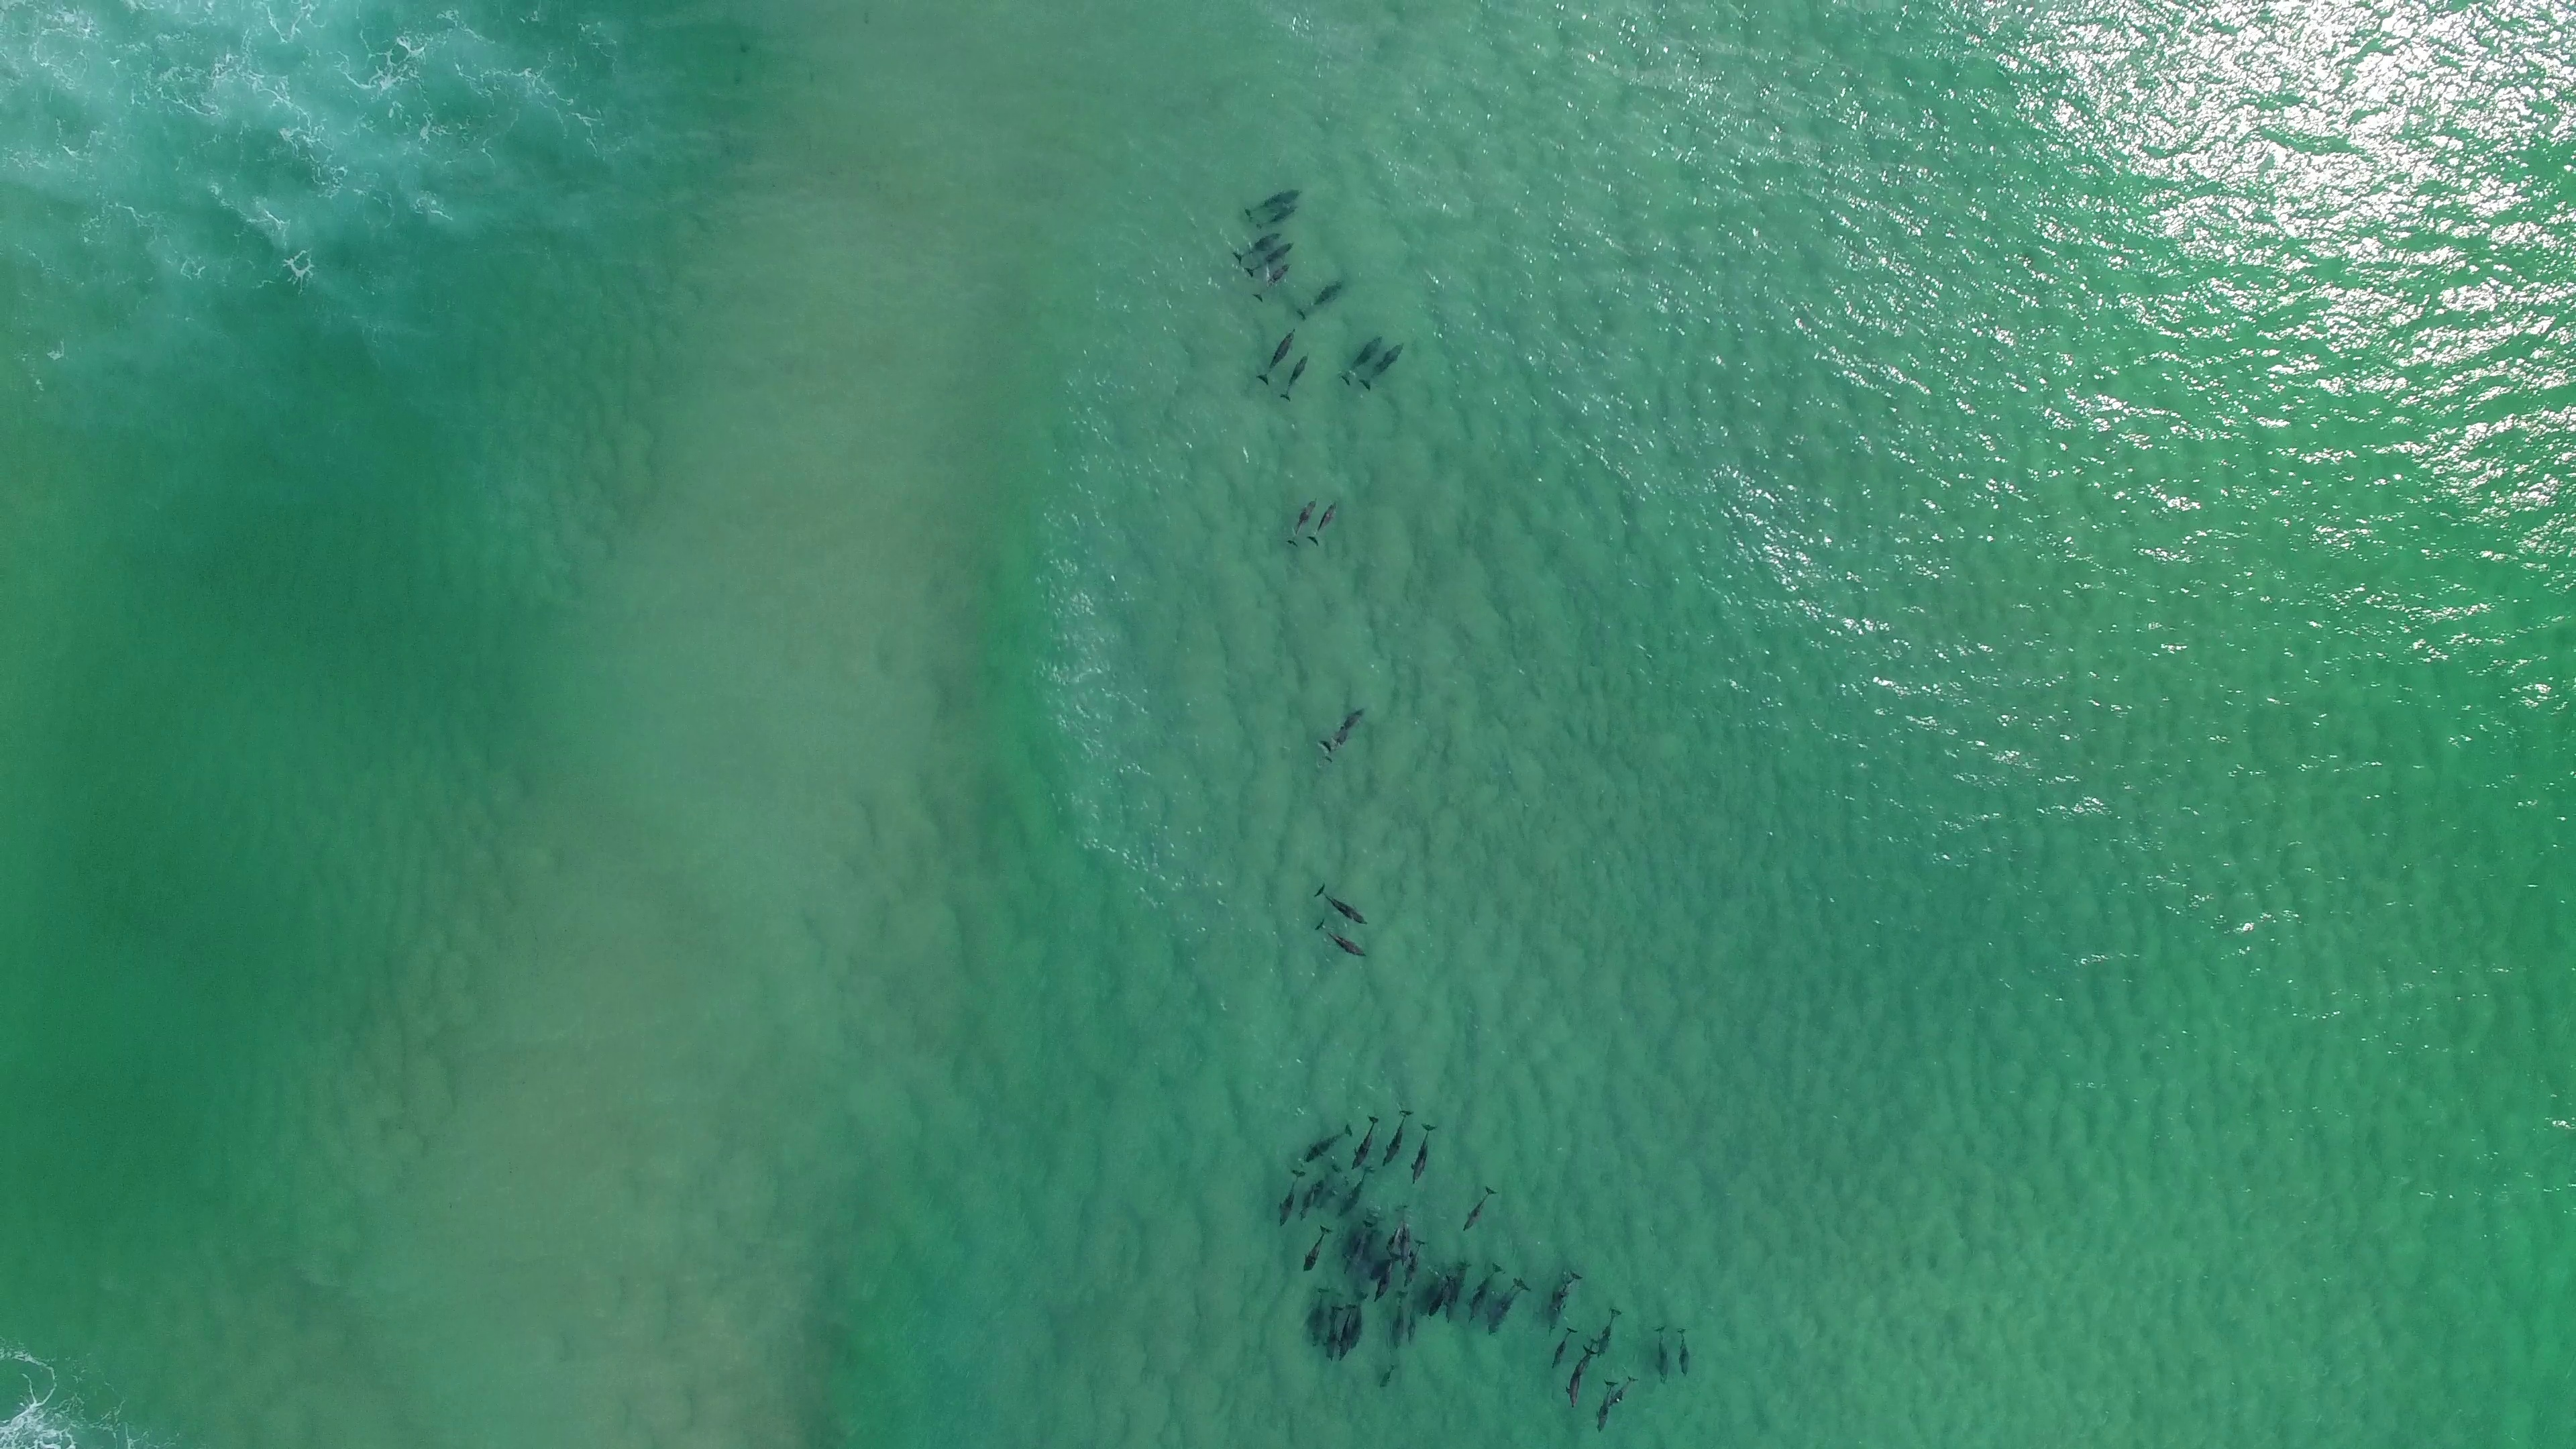dolphin: (1318, 706, 1366, 766), (1253, 327, 1299, 389), (1338, 334, 1384, 387), (1313, 885, 1369, 927), (1488, 1281, 1527, 1339), (1231, 225, 1286, 265), (1313, 920, 1369, 959), (1297, 1166, 1336, 1223), (1467, 1261, 1502, 1323), (1240, 239, 1293, 280), (1543, 1269, 1583, 1322), (1304, 1123, 1355, 1164), (1376, 1109, 1414, 1164), (1361, 343, 1405, 389), (1297, 278, 1345, 320), (1244, 184, 1304, 218), (1274, 1166, 1307, 1226), (1405, 1123, 1437, 1184), (1288, 494, 1322, 550), (1566, 1343, 1594, 1410), (1348, 1113, 1382, 1169), (1341, 1219, 1378, 1269), (1339, 1166, 1375, 1215), (1253, 262, 1293, 304), (1279, 350, 1311, 403), (1461, 1185, 1499, 1230), (1302, 1286, 1329, 1348), (1385, 1205, 1417, 1256), (1307, 497, 1339, 547), (1302, 1224, 1332, 1274), (1371, 1254, 1401, 1302), (1424, 1274, 1454, 1320), (1444, 1269, 1467, 1327), (1322, 1302, 1345, 1361), (1254, 203, 1300, 232), (1550, 1327, 1578, 1369), (1336, 1304, 1355, 1362), (1403, 1238, 1426, 1286), (1652, 1323, 1670, 1385), (1599, 1306, 1621, 1357), (1352, 1290, 1369, 1350), (1596, 1380, 1615, 1433), (1674, 1327, 1691, 1376), (1610, 1375, 1635, 1410), (1394, 1290, 1405, 1348), (1378, 1362, 1398, 1389), (1410, 1295, 1421, 1343)
